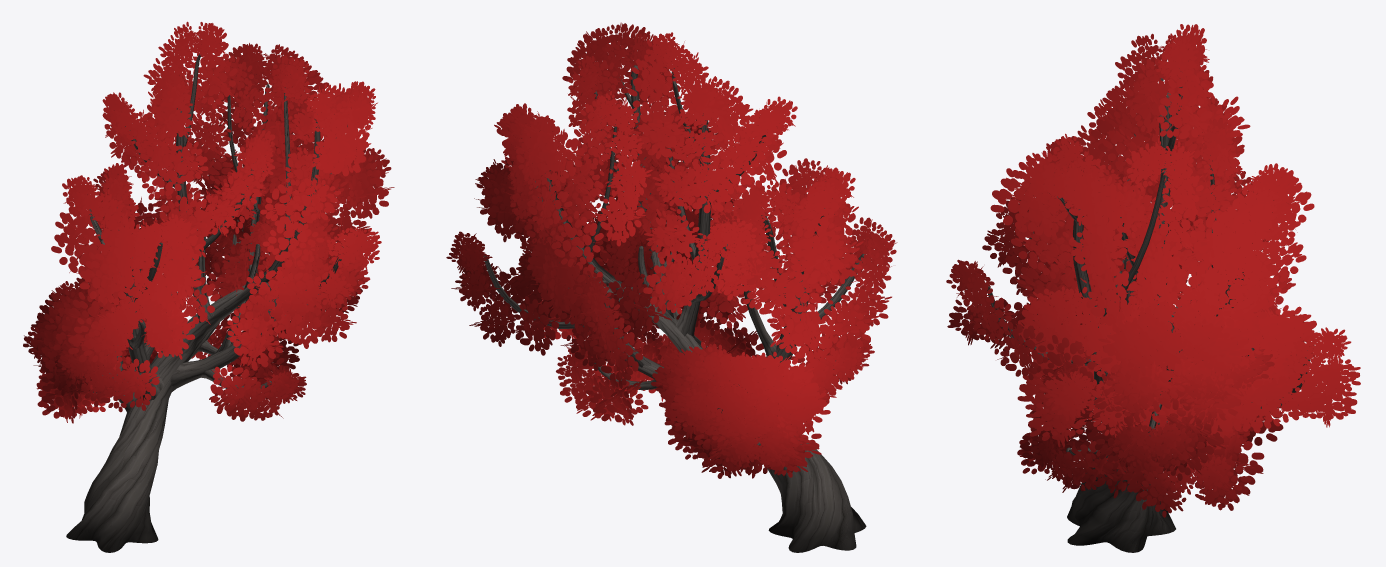
The model's file is TwistedTree_1.gltf.
3 renders of one model, left to right at view 1: azimuth 30°, elevation 25°; view 2: azimuth 150°, elevation 25°; view 3: azimuth 270°, elevation 25°, orthographic. The views are drawn at different scales.
Visible parts, largest first — view 1: TwistedTree_1; view 2: TwistedTree_1; view 3: TwistedTree_1.
Part boxes in pixels (x1,y1,x2,y2): TwistedTree_1: (23,21,394,552); TwistedTree_1: (446,22,897,552); TwistedTree_1: (946,24,1360,552).
Bounding box in the file's own units: 13.52 × 16.73 × 11.55.
Materials: 2 (2 with a texture image).
